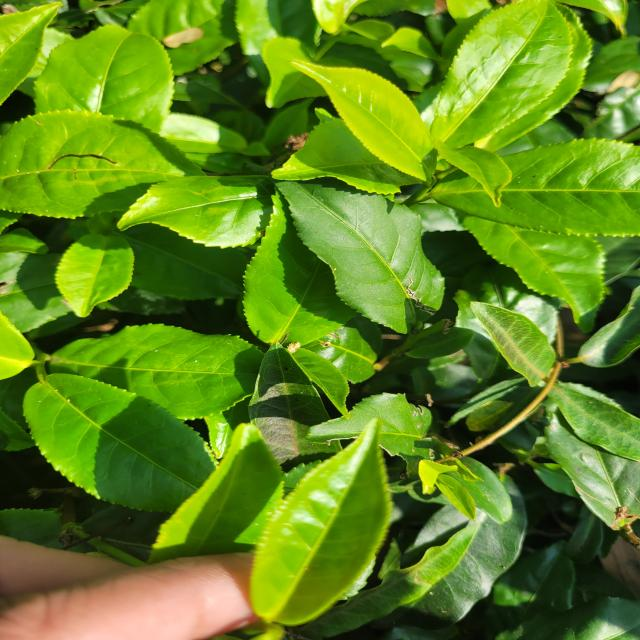Catagory A(1-2 days): (232, 412, 399, 640)
